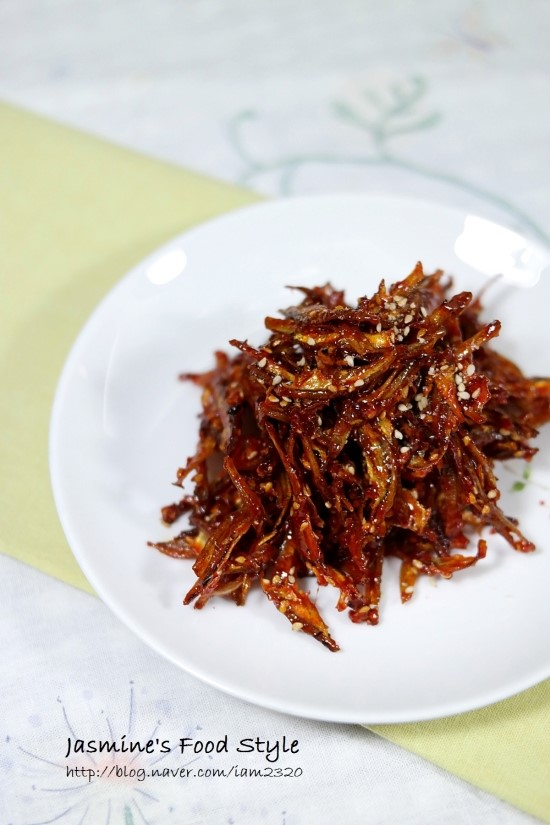myeolchibokk-eum: (144, 253, 550, 662)
